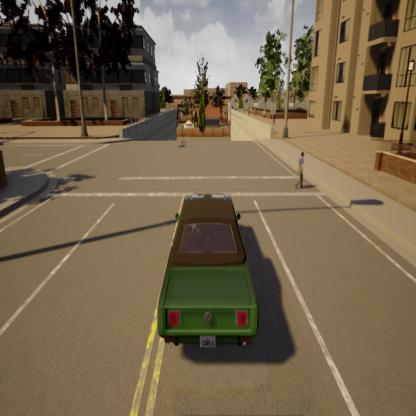Cars: (146, 180, 266, 362)
Pedestrian: (292, 146, 317, 191)
